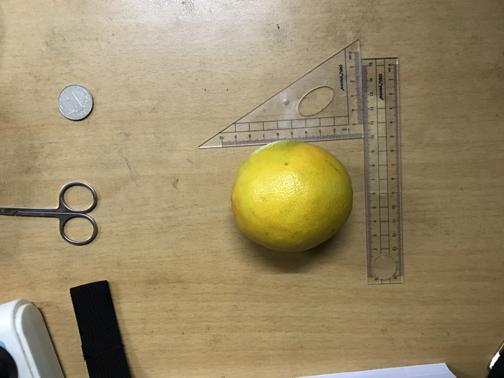coin: (54, 83, 93, 119)
orange: (230, 140, 352, 254)
